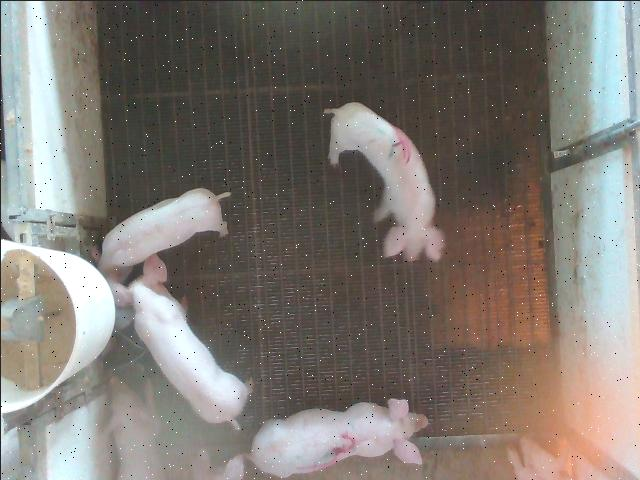pig-3: (249, 398, 426, 476)
pig-4: (324, 101, 444, 260)
